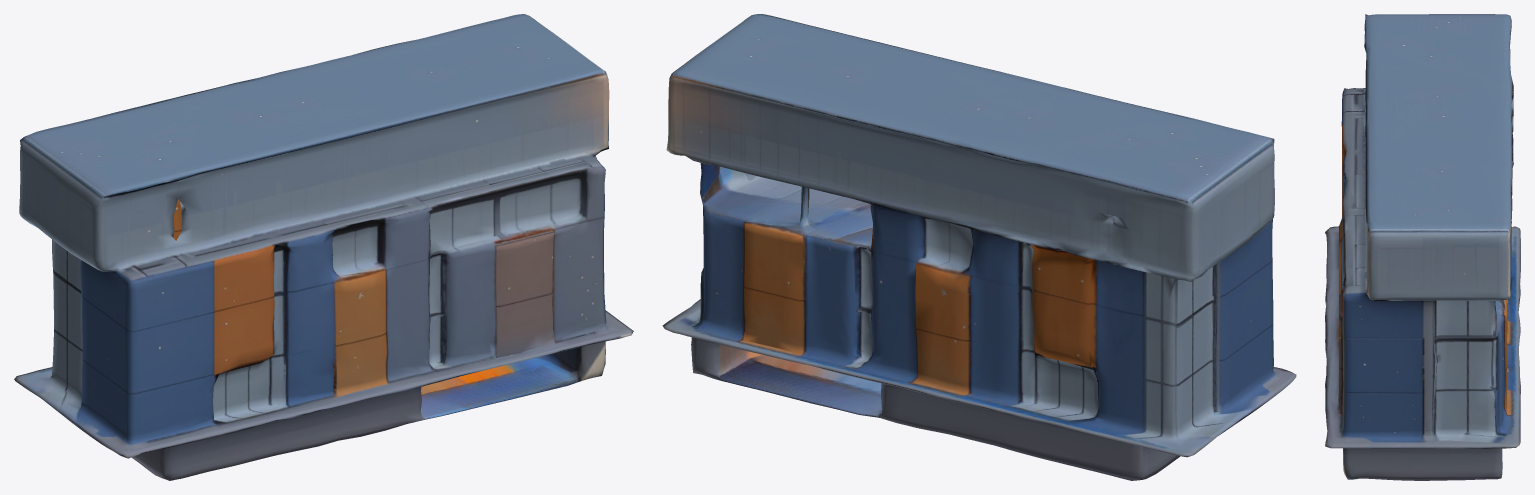
File: House.fbx
The picture shows the model from 3 angles, left to right: view 1: azimuth 30°, elevation 25°; view 2: azimuth 150°, elevation 25°; view 3: azimuth 270°, elevation 25°; orthographic projection. The views are drawn at different scales.
Visible parts, largest first — view 1: tripo_node_b594bf27; view 2: tripo_node_b594bf27; view 3: tripo_node_b594bf27.
Part boxes in pixels (left/top/right/bottom): tripo_node_b594bf27: left=14, top=14, right=633, bottom=480; tripo_node_b594bf27: left=662, top=14, right=1296, bottom=480; tripo_node_b594bf27: left=1325, top=14, right=1520, bottom=480.
Size of the model in its own units: 0.9997 by 0.5452 by 0.3738.
1 material, 1 textured.
